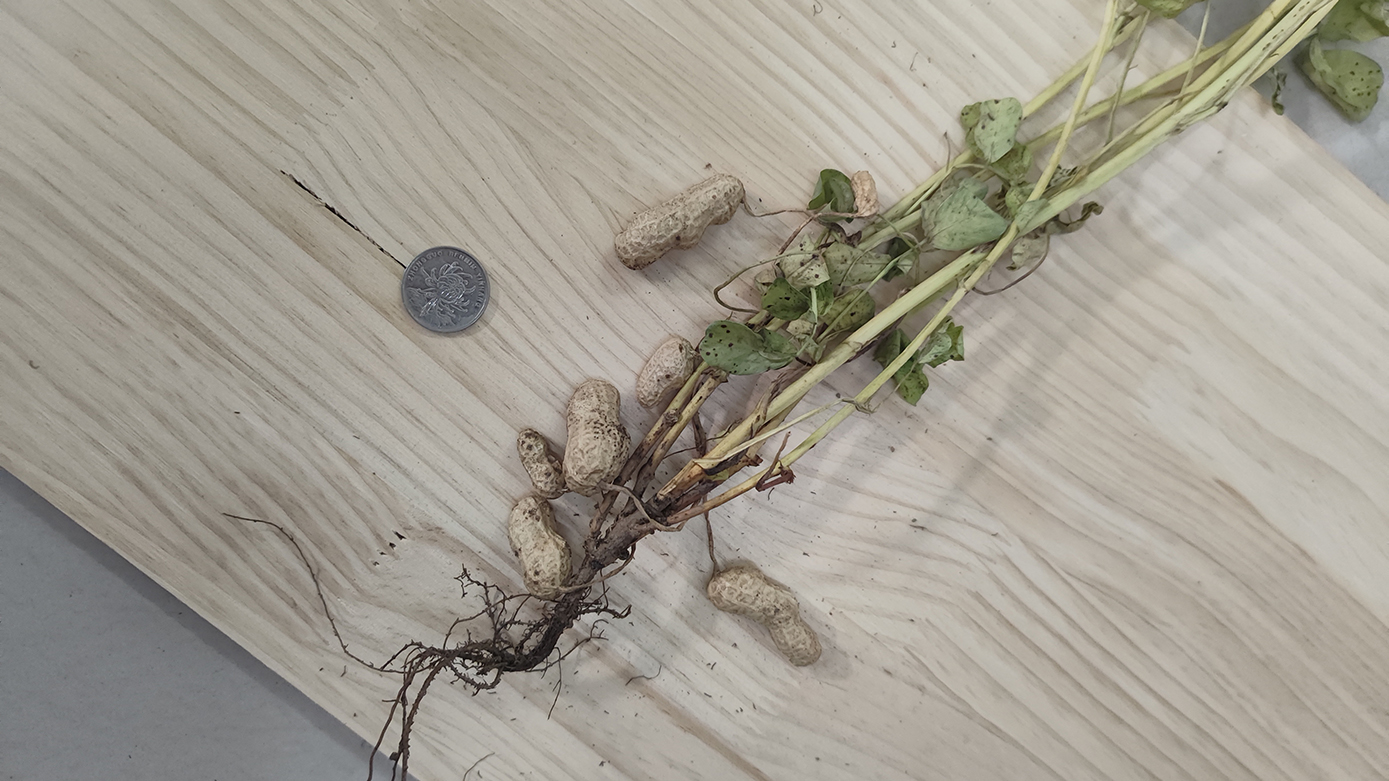h: (614, 176, 744, 270), (706, 565, 823, 666), (563, 376, 630, 497), (507, 494, 571, 599), (636, 334, 694, 407), (518, 428, 565, 499)
l: (852, 169, 880, 218)
